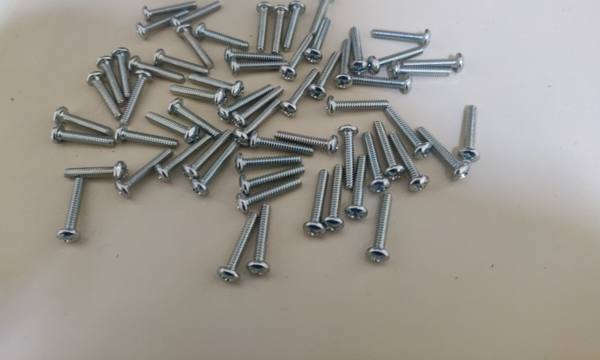longscrew: (215, 211, 255, 286), (415, 125, 470, 179), (367, 191, 403, 266), (156, 133, 208, 181), (117, 150, 168, 198), (193, 143, 237, 196), (185, 128, 229, 181), (236, 180, 304, 213), (216, 82, 273, 118), (50, 103, 112, 136), (385, 108, 427, 156), (392, 132, 427, 189), (239, 100, 283, 141), (57, 177, 82, 247), (112, 124, 178, 150), (133, 10, 190, 40), (240, 165, 303, 192), (235, 88, 282, 124), (281, 70, 318, 115), (171, 101, 221, 134), (123, 69, 153, 124), (281, 30, 314, 80), (177, 24, 212, 68), (370, 44, 423, 73), (249, 131, 310, 156), (375, 120, 401, 178), (171, 0, 223, 29), (308, 171, 329, 242), (276, 128, 337, 152), (50, 127, 113, 150), (458, 106, 481, 168), (250, 206, 270, 277), (346, 157, 367, 224), (63, 161, 126, 183), (96, 53, 123, 104), (235, 149, 301, 169), (156, 51, 211, 75), (312, 52, 340, 99), (366, 134, 387, 195), (305, 19, 334, 63), (321, 97, 388, 116), (147, 115, 200, 139), (281, 0, 306, 50), (268, 3, 293, 53), (253, 0, 278, 50), (130, 56, 184, 79), (340, 125, 360, 187), (305, 0, 338, 36), (194, 24, 249, 45), (354, 75, 420, 92), (141, 0, 199, 19), (90, 74, 115, 118), (183, 74, 244, 92), (165, 85, 225, 103), (369, 28, 428, 46), (403, 52, 468, 68), (333, 39, 353, 90), (327, 165, 341, 234), (387, 66, 451, 80), (229, 61, 288, 76), (224, 49, 282, 64), (113, 48, 129, 99), (349, 26, 366, 73)
